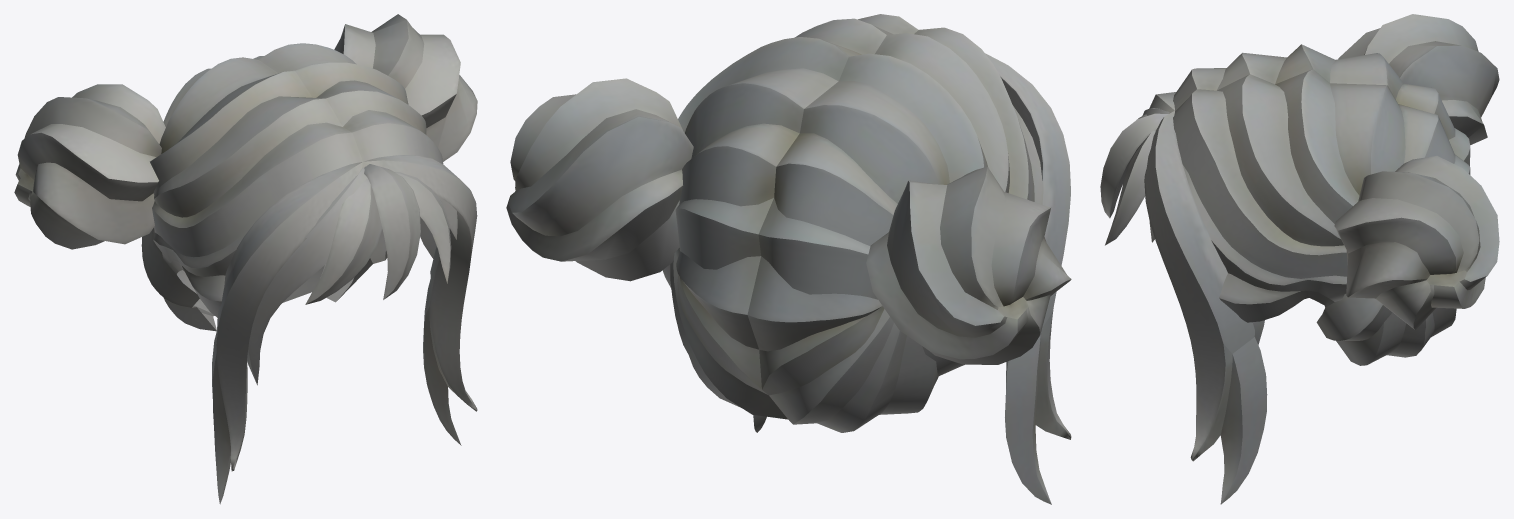
File: operator-hair-female-v3.glb
The picture shows the model from 3 angles, left to right: view 1: azimuth 30°, elevation 25°; view 2: azimuth 150°, elevation 25°; view 3: azimuth 270°, elevation 25°; orthographic projection. The views are drawn at different scales.
Visible parts, largest first — view 1: Hair_Buns; view 2: Hair_Buns; view 3: Hair_Buns.
Boxes of the visible parts, left/top/right/bottom form: Hair_Buns: left=14, top=14, right=477, bottom=504; Hair_Buns: left=506, top=14, right=1071, bottom=504; Hair_Buns: left=1100, top=14, right=1499, bottom=504.
Size of the model in its own units: 0.3015 by 0.2491 by 0.2368.
1 material, 1 textured.
